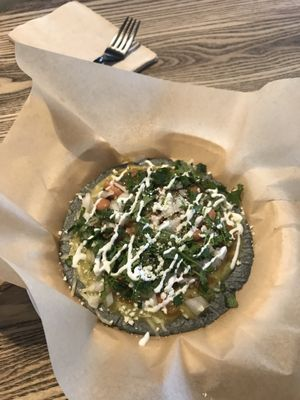burger: (93, 16, 142, 65)
